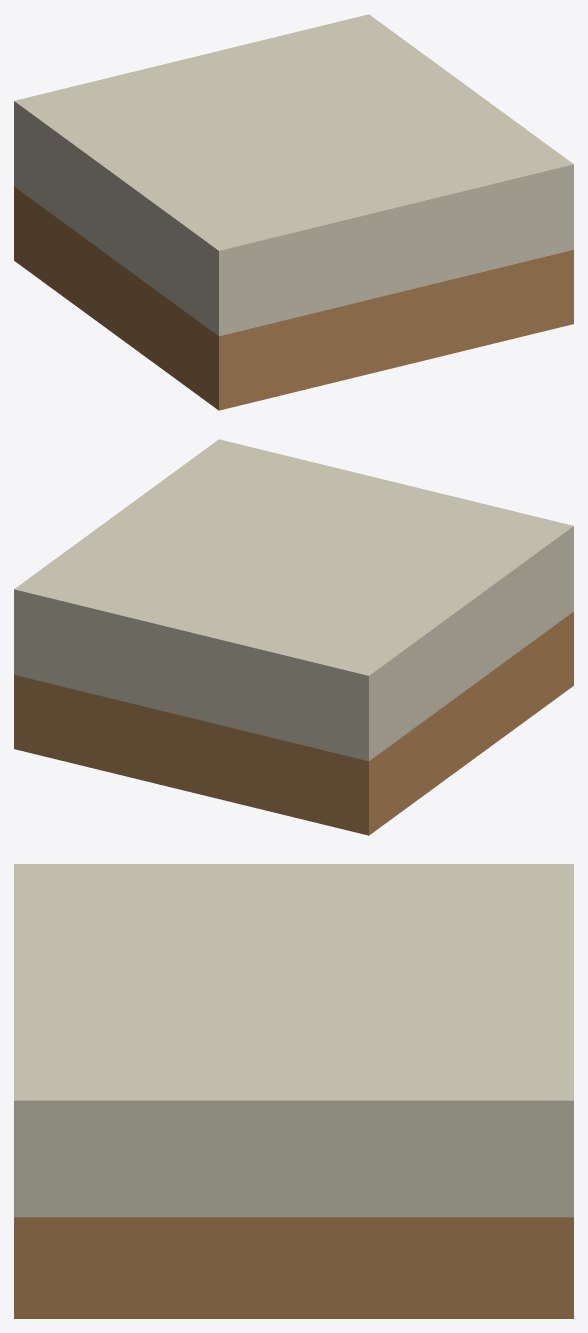
File: Building 16.FBX
3 renders of one model, top to bottom at view 1: azimuth 30°, elevation 25°; view 2: azimuth 150°, elevation 25°; view 3: azimuth 270°, elevation 25°, orthographic. The views are drawn at different scales.
Visible parts, largest first — view 1: Group135, Group136; view 2: Group135, Group136; view 3: Group135.
Boxes of the visible parts, x1,y1,x2,y2 form: Group135: (14,14,573,410); Group136: (114,45,444,220); Group135: (14,439,573,835); Group136: (122,470,500,645); Group135: (14,864,573,1318).
Size of the model in its own units: 39.37 by 16.93 by 39.37.
